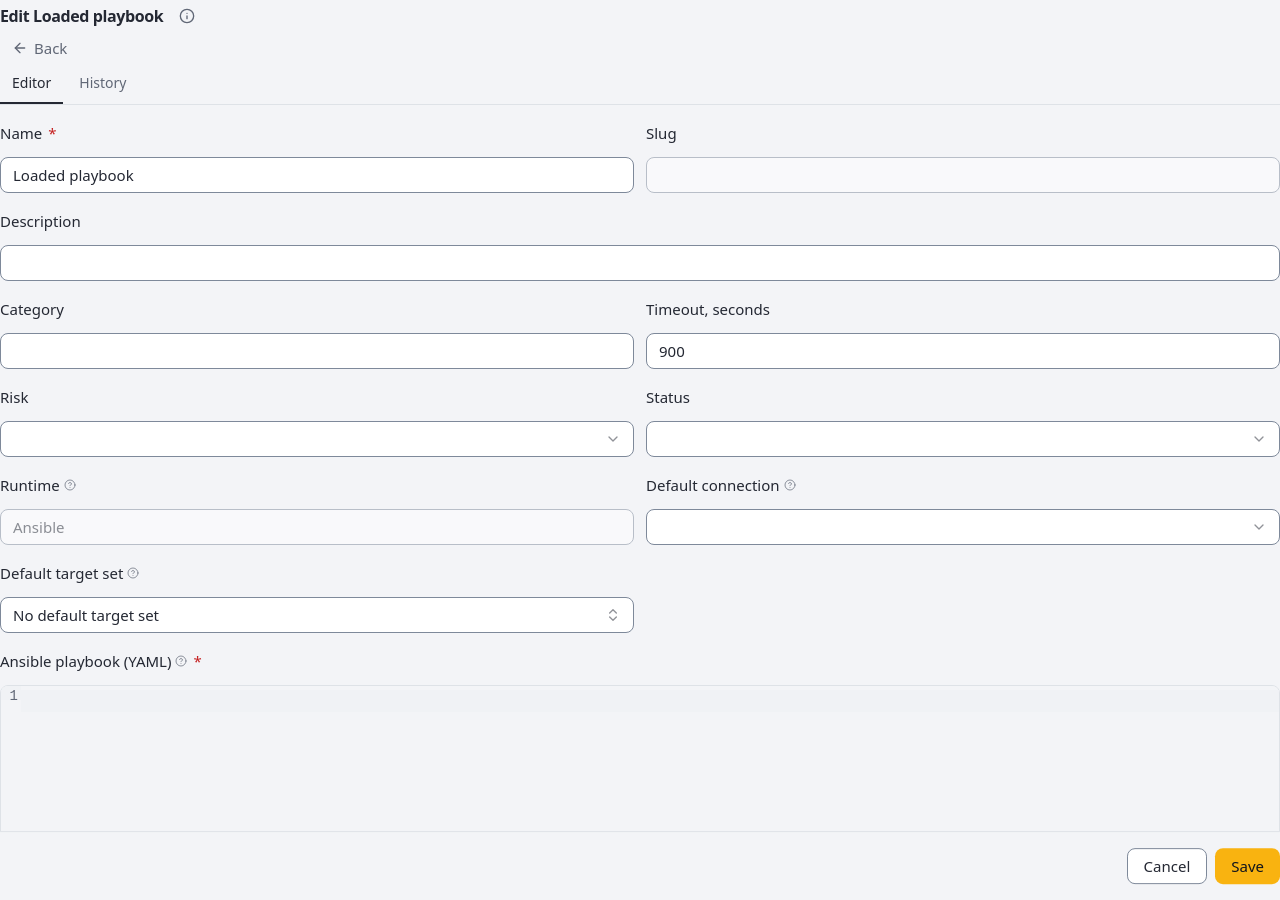
Test: playbook route state shell › retains the loaded dirty draft and discard guard after a failed background refresh
Replace the text in the field labelled "Name *" with "Unsaved local draft" at (317, 175), box [0,157,634,193]
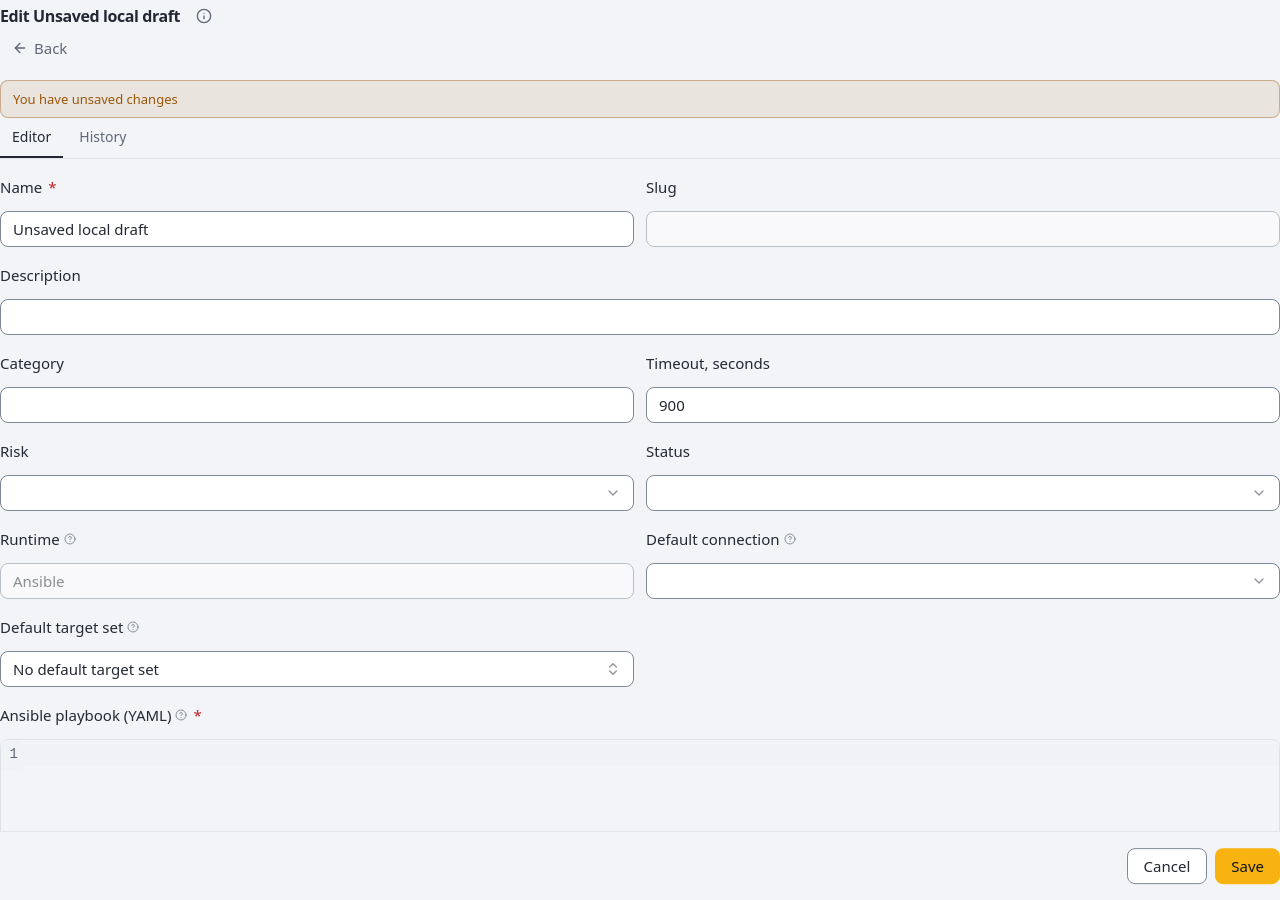
Expected: the number of headings is 1, [0,4,180,28]
Result: the text "You have unsaved changes" is shown at [0,80,1279,118]
Click the button "Back" at (40, 48), box [0,32,79,64]
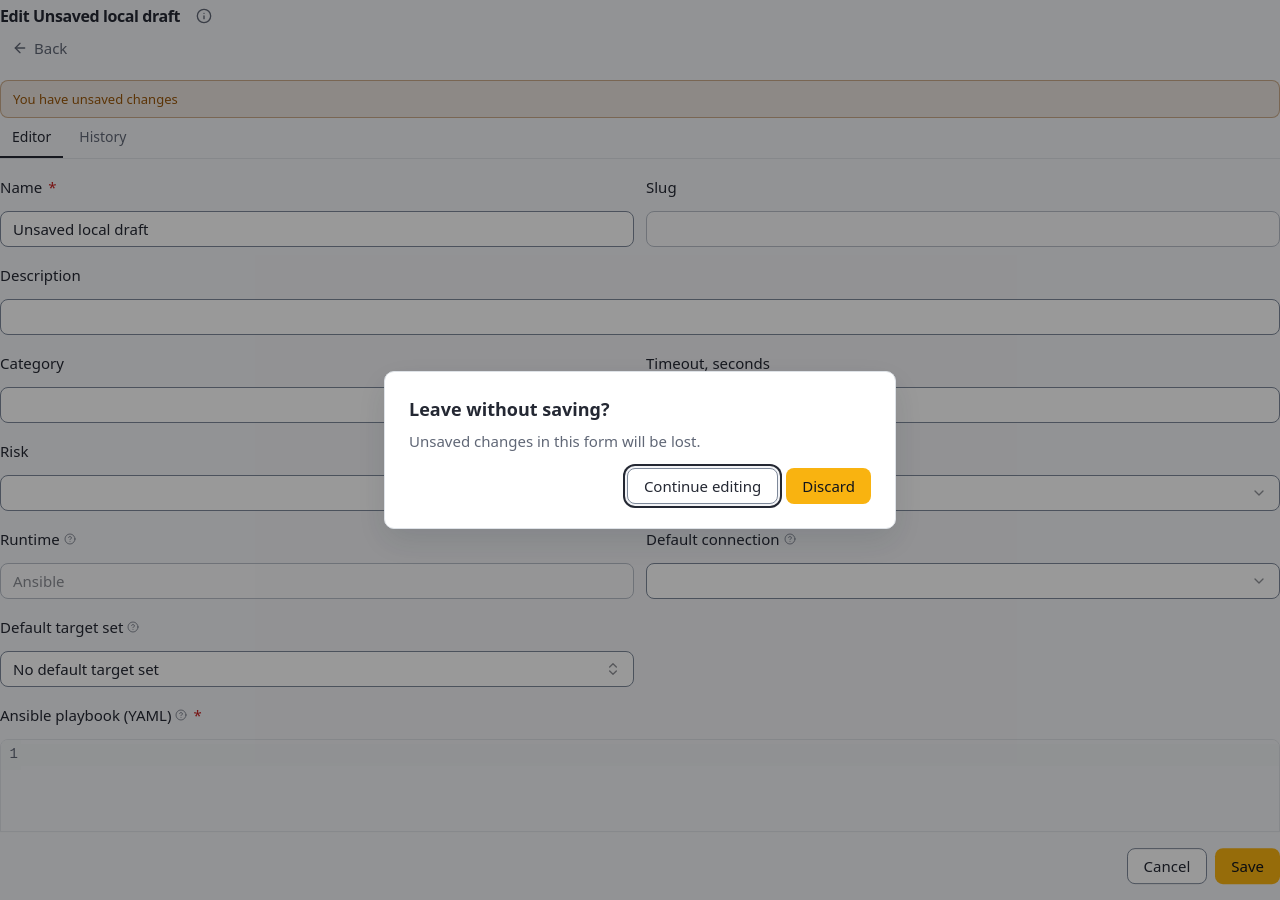
Result: the dialog is shown at [384,371,896,529]
